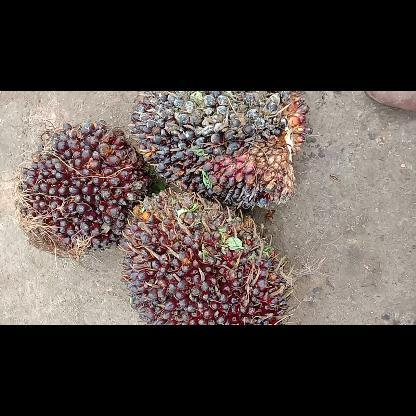Kurang masak: (122, 192, 288, 324), (19, 120, 150, 256)
TBS mentah: (132, 91, 314, 213)
